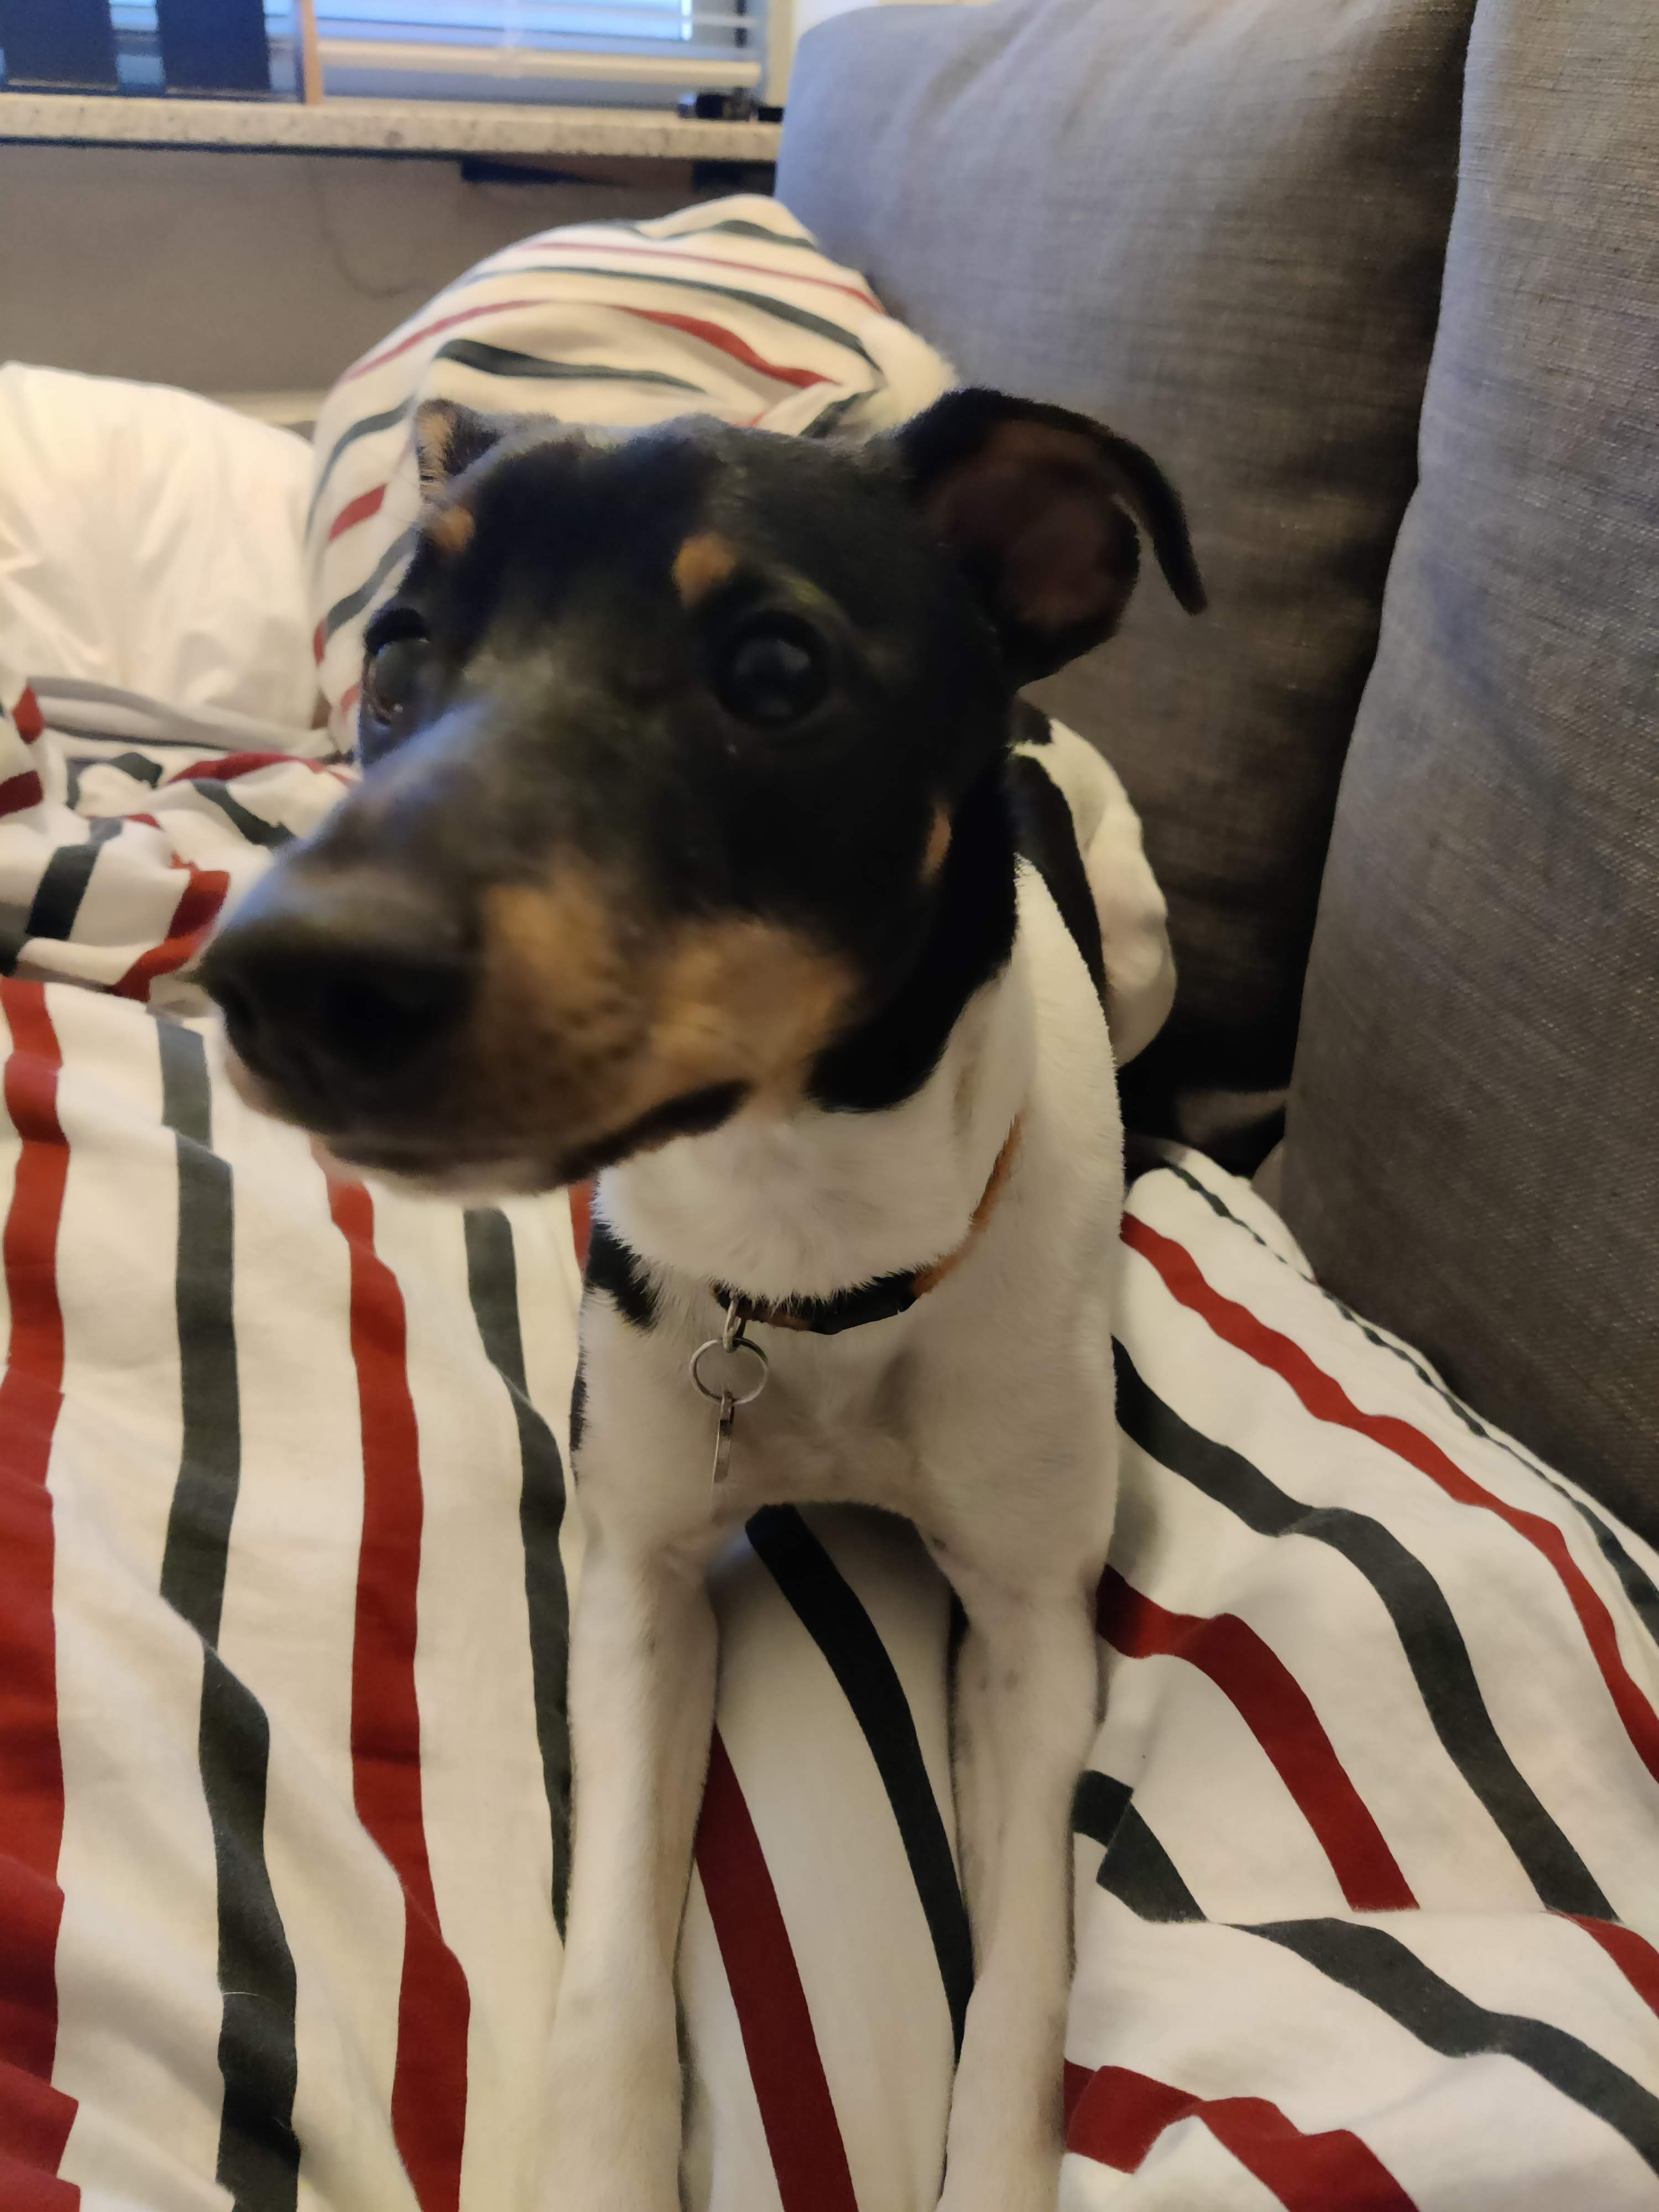Dog: (173, 374, 1223, 2212)
